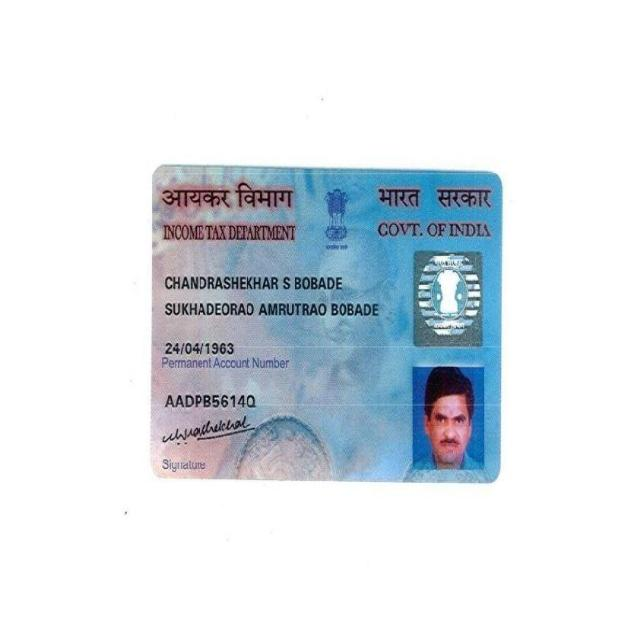pan_card: (153, 166, 504, 483)
